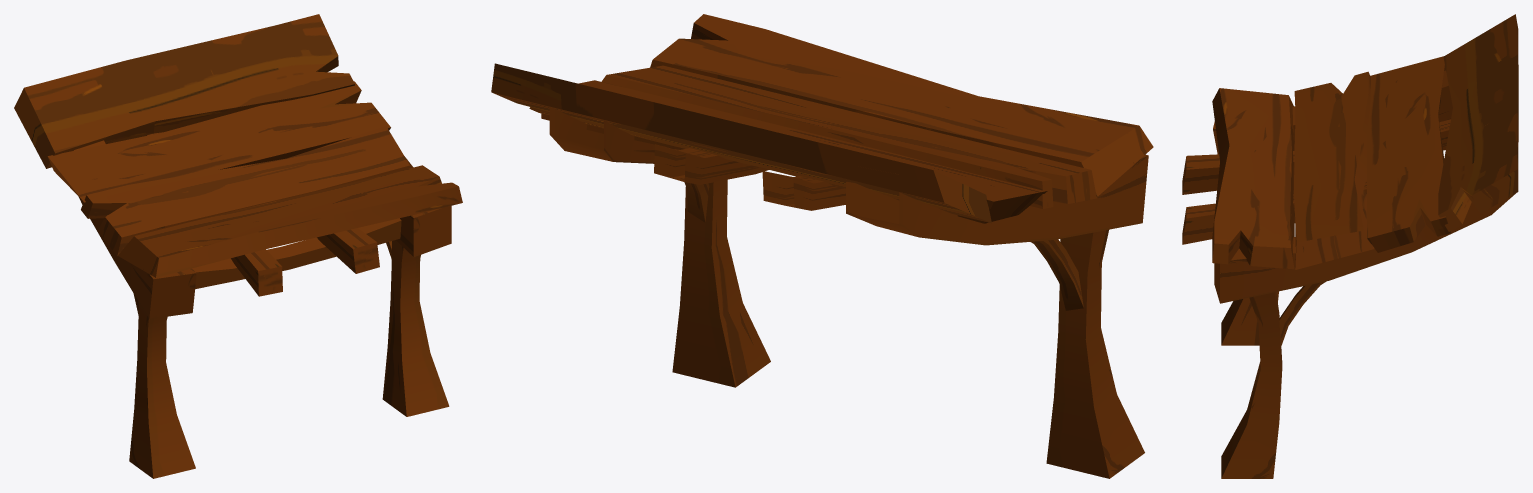
File: SM_BLD_body_add_v04_01.fbx
3 renders of one model, left to right at view 1: azimuth 30°, elevation 25°; view 2: azimuth 150°, elevation 25°; view 3: azimuth 270°, elevation 25°, orthographic. The views are drawn at different scales.
Visible parts, largest first — view 1: SM_BLD_body_add_v04_01; view 2: SM_BLD_body_add_v04_01; view 3: SM_BLD_body_add_v04_01.
Boxes of the visible parts, x1=… form: SM_BLD_body_add_v04_01: x1=14, y1=14, x2=462, y2=478; SM_BLD_body_add_v04_01: x1=491, y1=14, x2=1153, y2=478; SM_BLD_body_add_v04_01: x1=1182, y1=14, x2=1518, y2=478.
Bounding box in the file's own units: 465 × 421 × 409.
